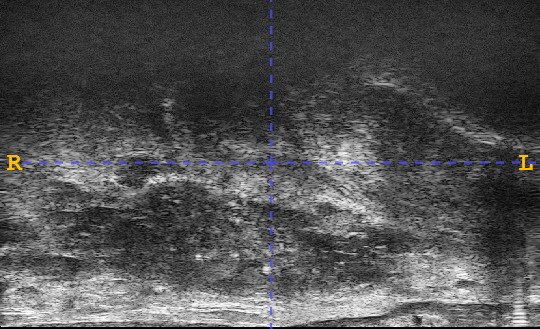calcifications: (154, 225, 286, 284), (249, 258, 327, 290)
